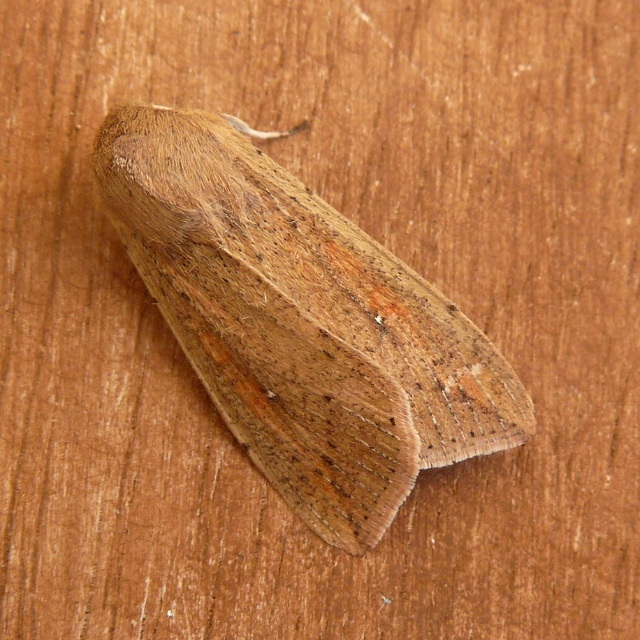Moths and butterflies: (91, 99, 540, 562)
